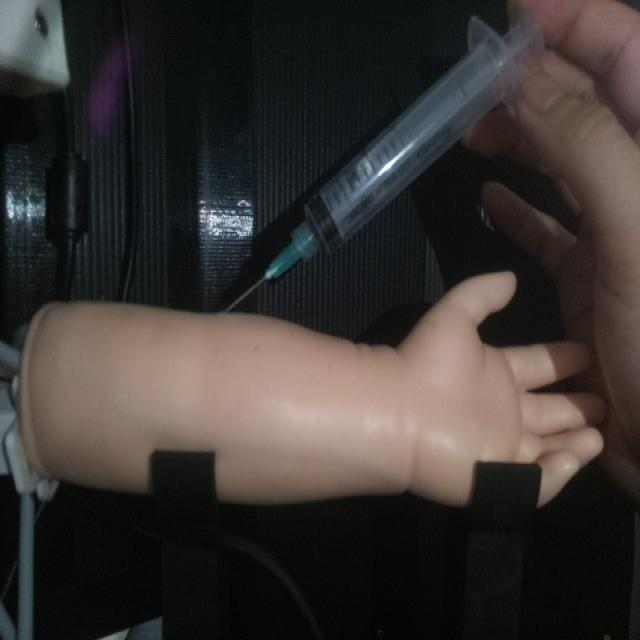Outside: (219, 0, 550, 315)
